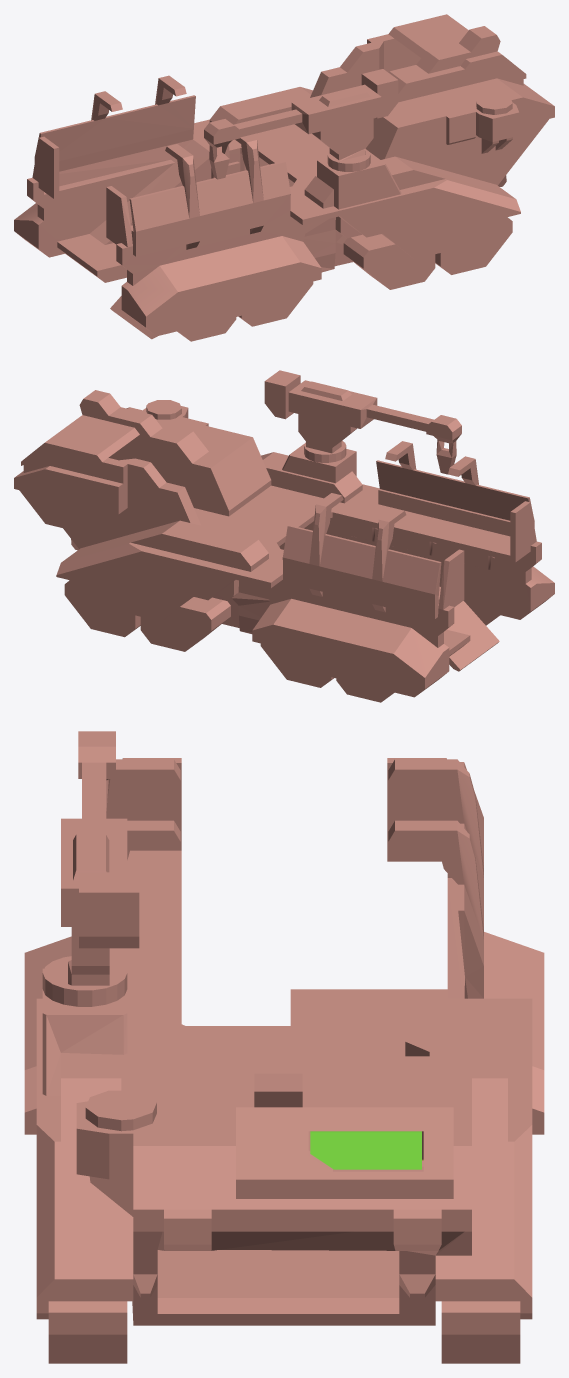
File: behemoth_collision.fbx
The picture shows the model from 3 angles, top to bottom: view 1: azimuth 30°, elevation 25°; view 2: azimuth 150°, elevation 25°; view 3: azimuth 270°, elevation 25°; orthographic projection. The views are drawn at different scales.
Parts seen in each view (by area): view 1: behemoth; view 2: behemoth; view 3: behemoth.
Part boxes in pixels (x1,y1,x2,y2): behemoth: (14,14,554,341); behemoth: (14,370,554,702); behemoth: (24,731,544,1363).
Bounding box in the file's own units: 430 × 837 × 379.
